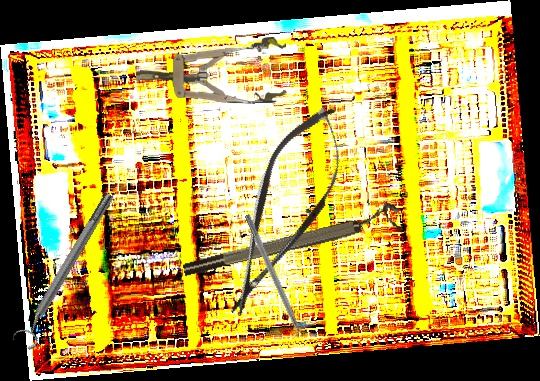Fixation Ring: (9, 188, 123, 352), (179, 201, 404, 280)
Hook Surgical: (242, 213, 310, 351)
Micro Scissor: (203, 94, 365, 330)
Speculum: (134, 36, 289, 108)
